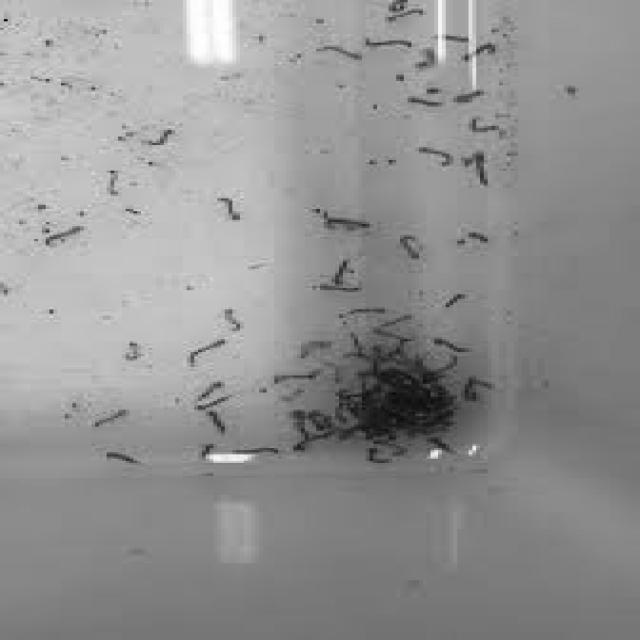larvas: (188, 339, 226, 366), (294, 432, 335, 451), (44, 226, 83, 244), (396, 233, 424, 258), (432, 336, 472, 353), (194, 393, 232, 410), (338, 308, 384, 322), (421, 147, 454, 166), (95, 409, 128, 428), (330, 257, 352, 285), (307, 282, 363, 293), (474, 151, 491, 186), (319, 46, 363, 59), (306, 208, 332, 229), (375, 327, 414, 341), (431, 354, 459, 373), (198, 382, 225, 401), (464, 43, 496, 59), (146, 129, 176, 146), (201, 412, 226, 432), (380, 314, 415, 328), (228, 446, 282, 455), (220, 198, 243, 219), (467, 116, 499, 131), (326, 218, 372, 228), (222, 309, 242, 331), (428, 439, 457, 454), (366, 448, 392, 464), (108, 452, 141, 464), (294, 409, 309, 435), (408, 97, 445, 107), (366, 39, 412, 47), (456, 90, 484, 103), (108, 170, 122, 196), (464, 385, 483, 404), (199, 441, 216, 462), (275, 375, 318, 383), (390, 10, 423, 20), (464, 379, 498, 388), (418, 49, 432, 68), (351, 334, 364, 354), (124, 342, 138, 360), (446, 294, 466, 306), (388, 0, 409, 11), (440, 35, 473, 42), (468, 232, 488, 242)
